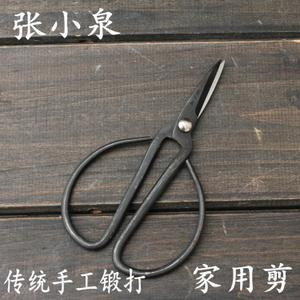scissor: (61, 59, 225, 278)
